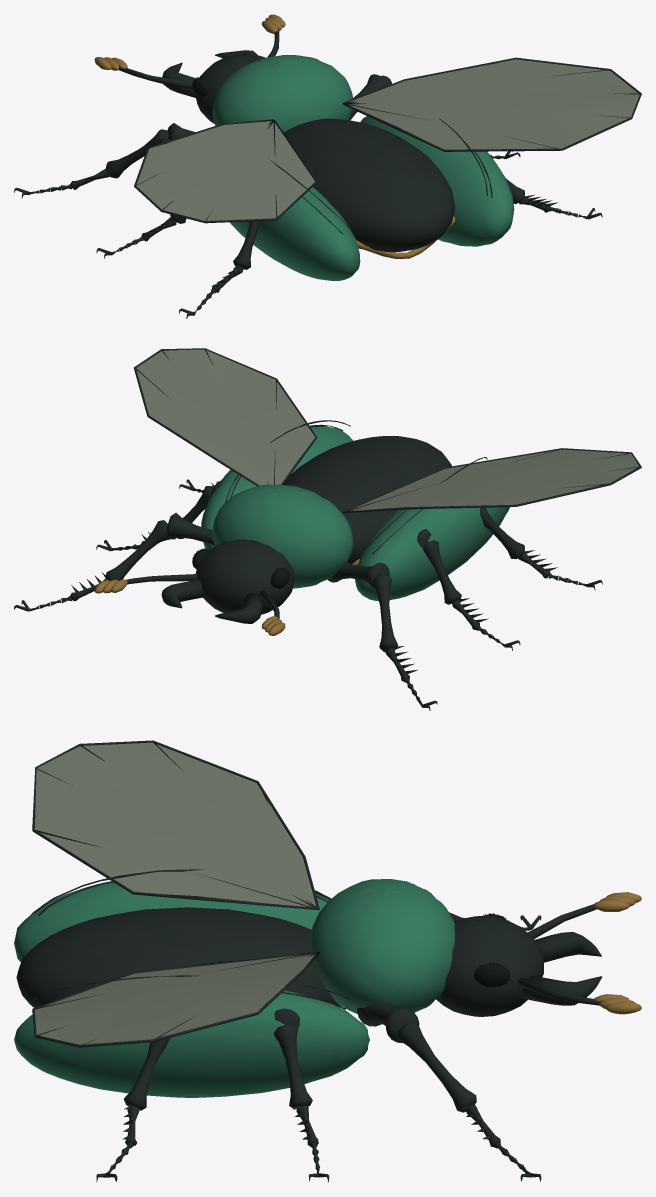
3 renders of one model, top to bottom at view 1: azimuth 30°, elevation 25°; view 2: azimuth 150°, elevation 25°; view 3: azimuth 270°, elevation 25°, orthographic. The views are drawn at different scales.
Parts seen in each view (by area): view 1: B09_SPEC_Chitin_export; view 2: B09_SPEC_Chitin_export; view 3: B09_SPEC_Chitin_export.
Boxes of the visible parts, x1,y1,x2,y2 form: B09_SPEC_Chitin_export: (14,14,641,318); B09_SPEC_Chitin_export: (14,348,641,710); B09_SPEC_Chitin_export: (14,740,641,1182).
Size of the model in its own units: 3.28 by 0.8279 by 2.88.
